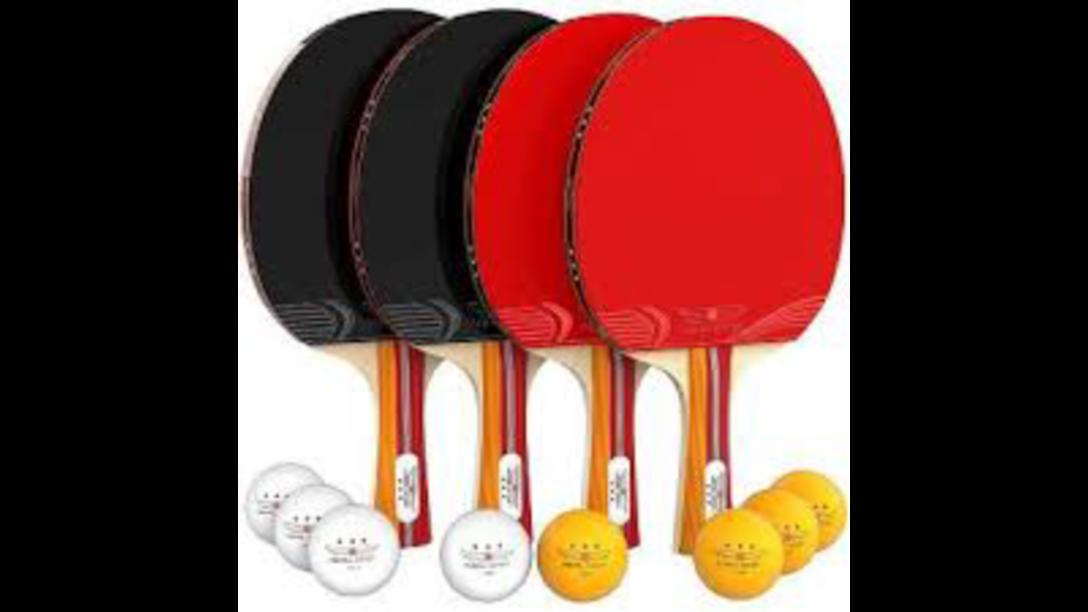Table-Tennis-Ball: (441, 510, 531, 600), (538, 509, 626, 601), (310, 505, 398, 595), (694, 510, 782, 600), (276, 484, 356, 570), (742, 488, 818, 574), (244, 464, 324, 542), (773, 469, 845, 553)
